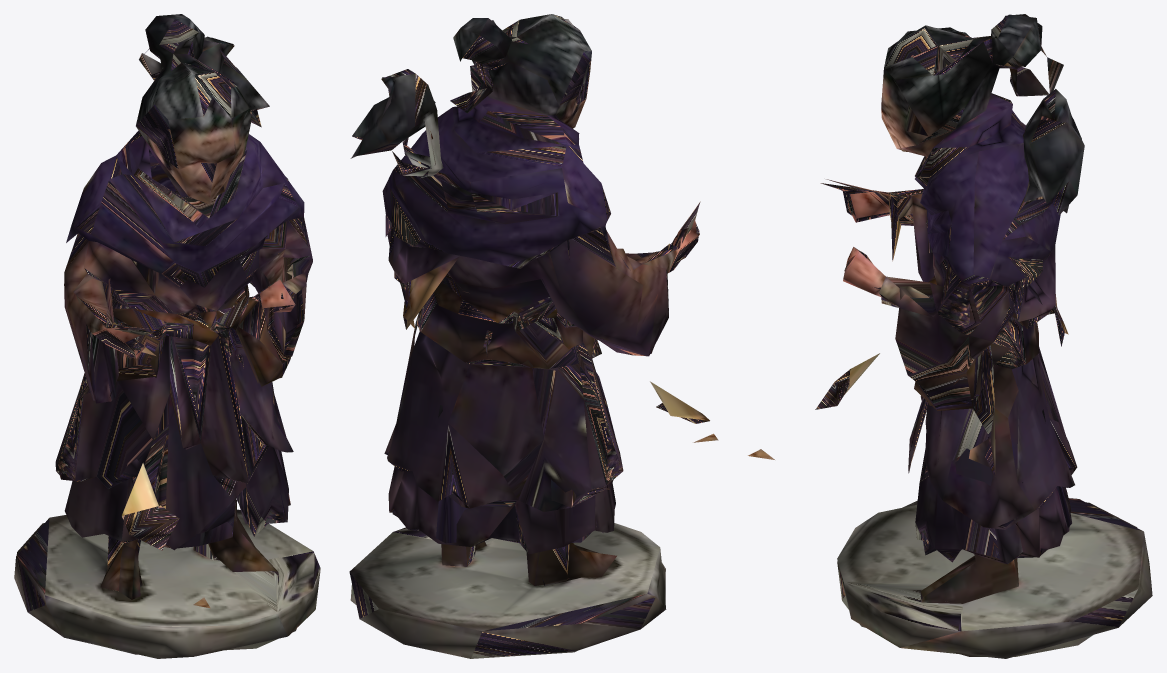
The model's file is hero-morwen-lite.glb.
3 renders of one model, left to right at view 1: azimuth 30°, elevation 25°; view 2: azimuth 150°, elevation 25°; view 3: azimuth 270°, elevation 25°, orthographic. The views are drawn at different scales.
Visible parts, largest first — view 1: geometry_0; view 2: geometry_0; view 3: geometry_0.
Part boxes in pixels (x1,y1,x2,y2): geometry_0: (14, 14, 320, 658); geometry_0: (349, 14, 718, 658); geometry_0: (748, 14, 1152, 658).
Bounding box in the file's own units: 0.4468 × 0.9184 × 0.5721.
Materials: 1 (1 with a texture image).
